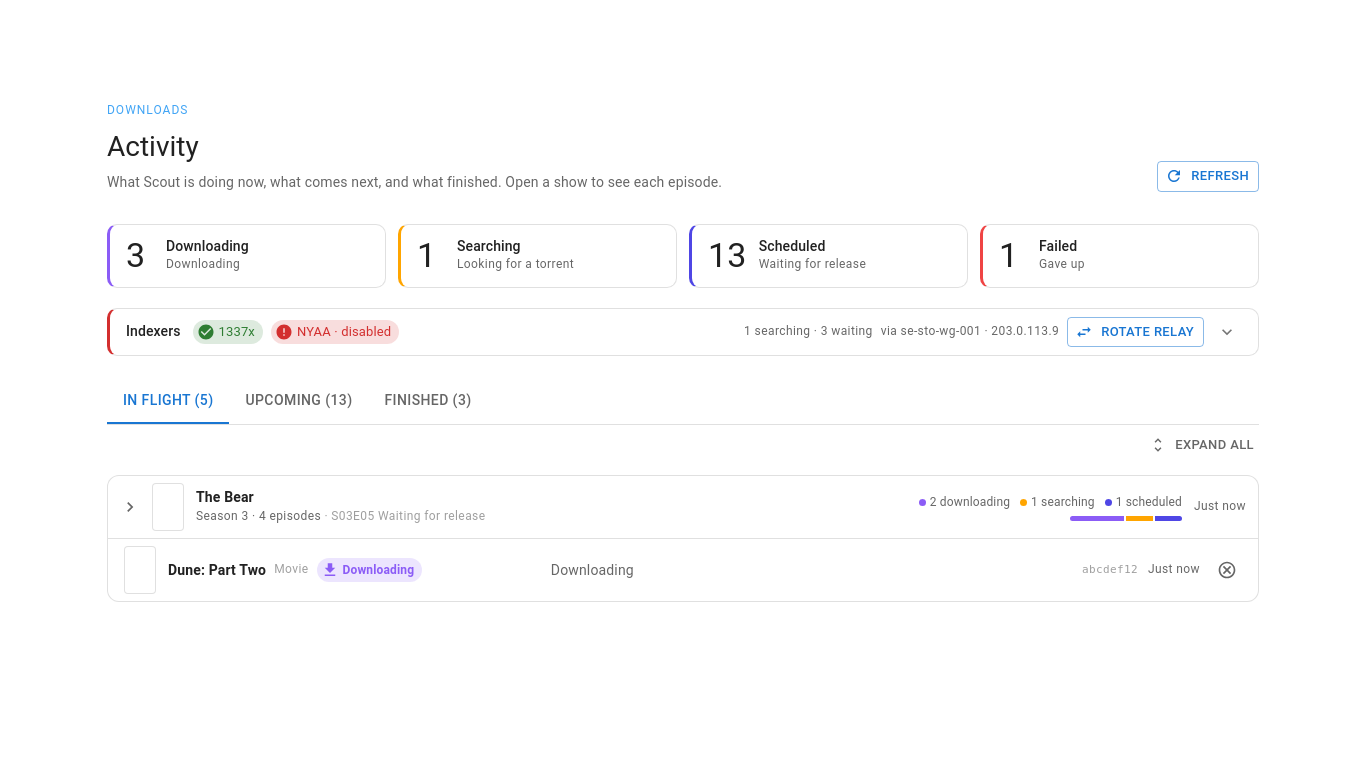
it: Activity page › caps Upcoming at twelve shows until Show all
Click the tab "Upcoming (13)".
click(299, 400)  # box [230,376,368,424]
(page scrolled)
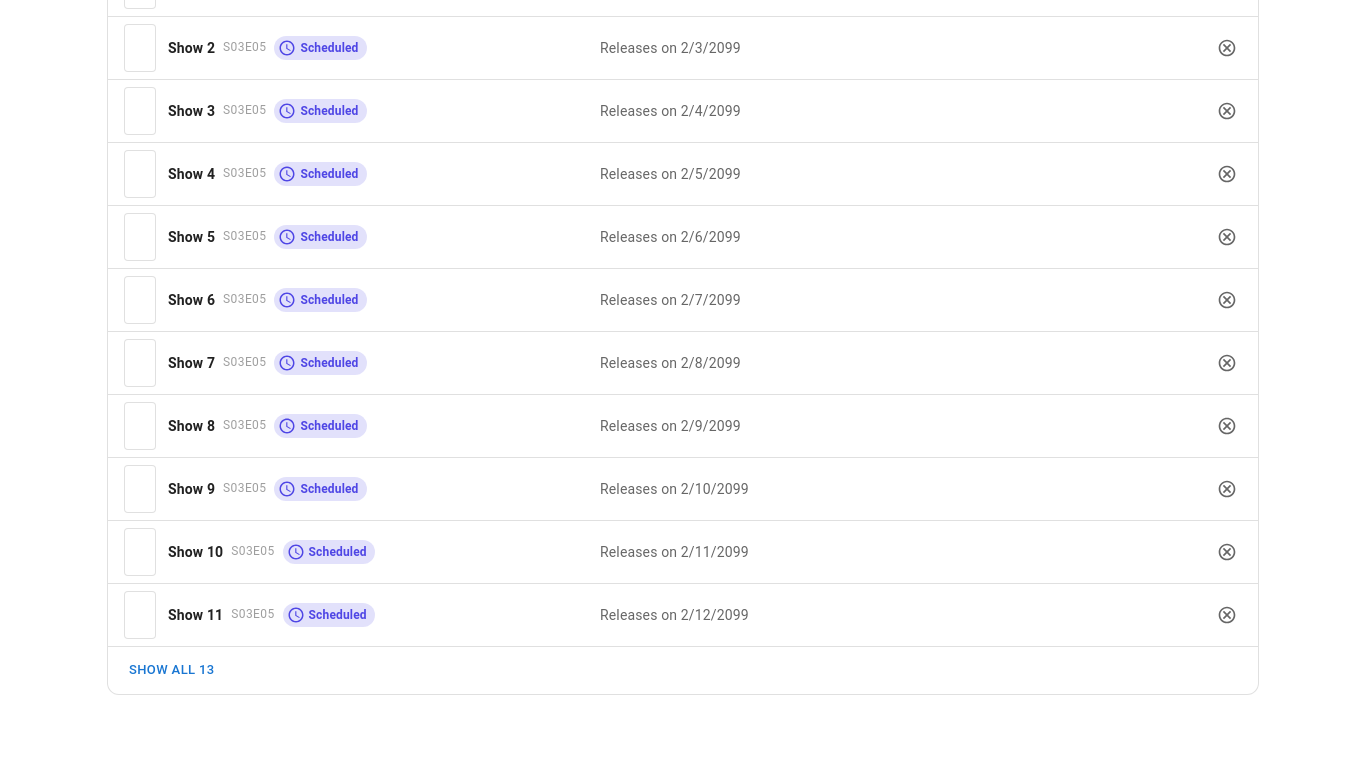
Check: the text "Show 12" is not shown
Click the button "Show all 13".
click(172, 671)  # box [124,655,220,686]
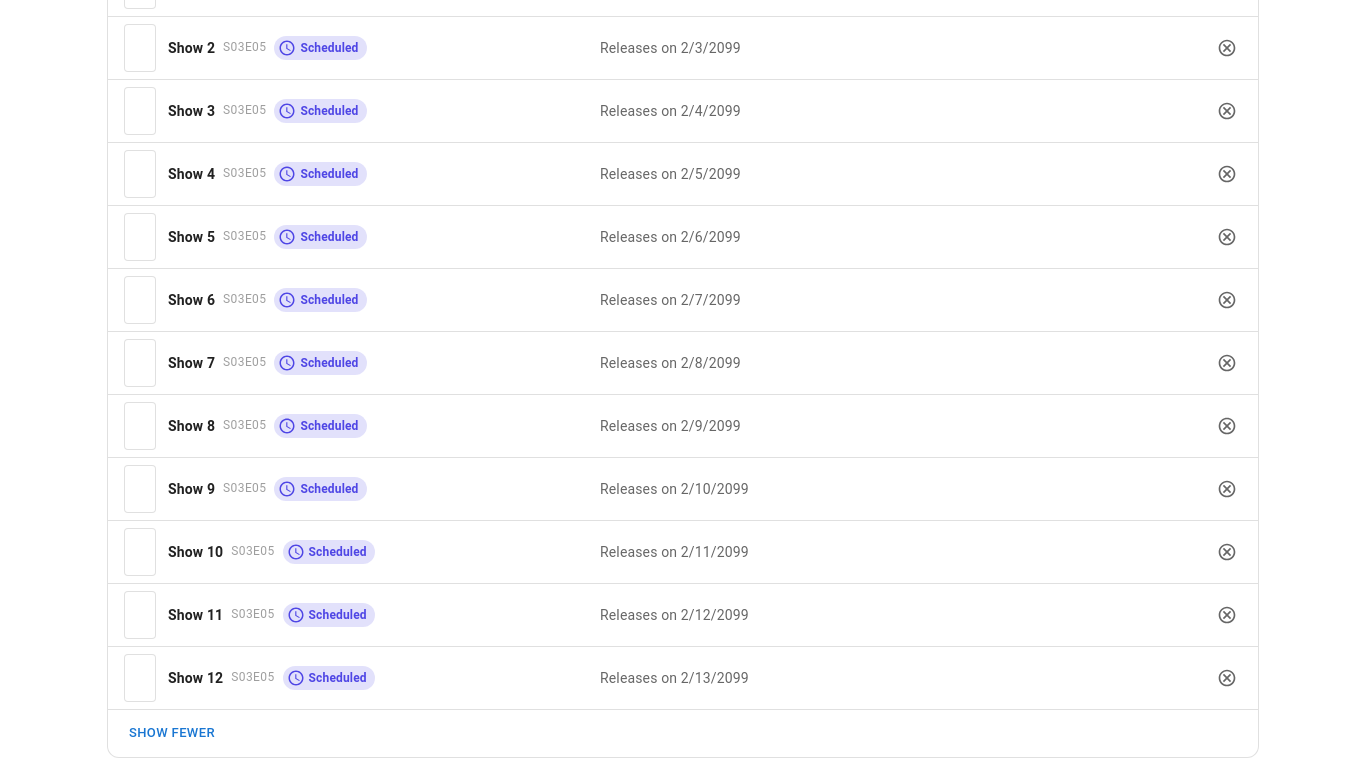
Check: the text "Show 12" is shown, box [168,668,223,688]
Check: the button "Show fewer" is shown, box [124,718,220,749]
